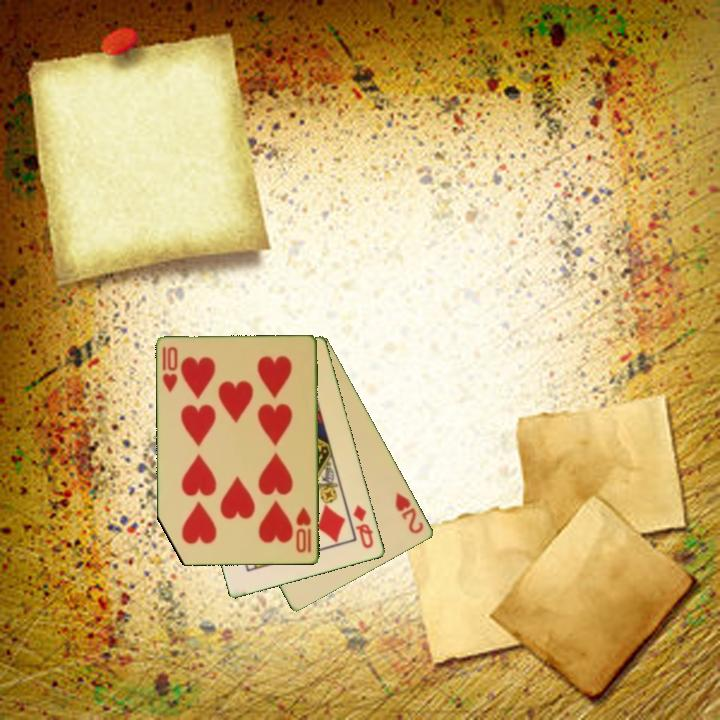10h: (159, 343, 181, 396), (293, 504, 314, 556)
2h: (392, 489, 427, 537)
Qd: (350, 501, 377, 552)
